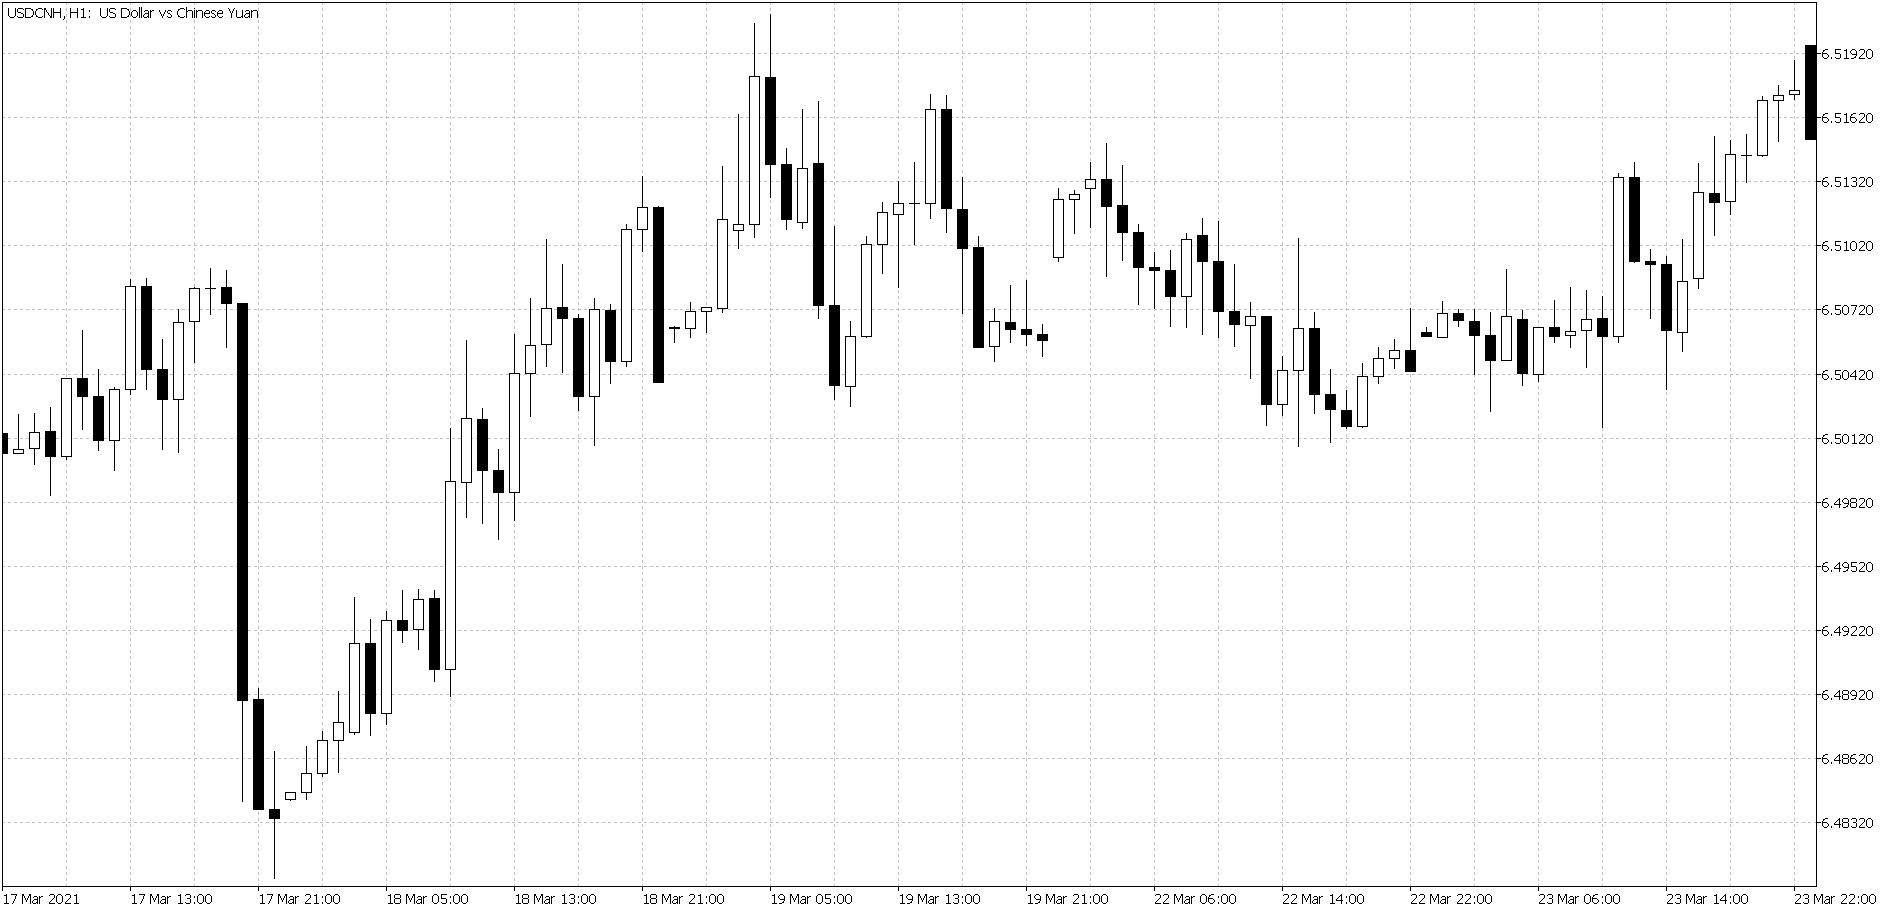3blackcrows: (1099, 136, 1148, 308)
bullishEngulfing: (1340, 364, 1370, 446)
eveningDojiStar: (188, 268, 233, 361)
morningStar: (251, 678, 297, 879)
shootingStar: (1401, 306, 1420, 378)
